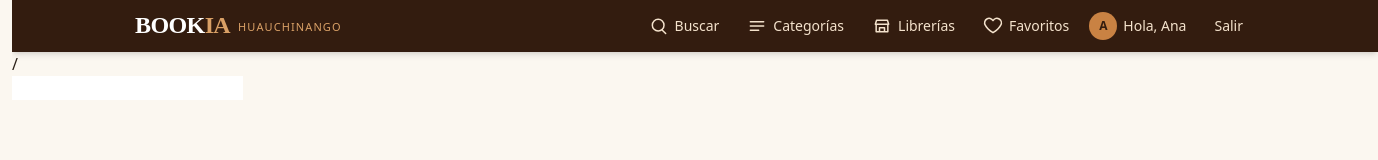
Test: Header account link › opens the profile page from the avatar of a signed-in reader
Click the link with aria-label "Mi perfil" at (1142, 26), box [1085,8,1198,44]
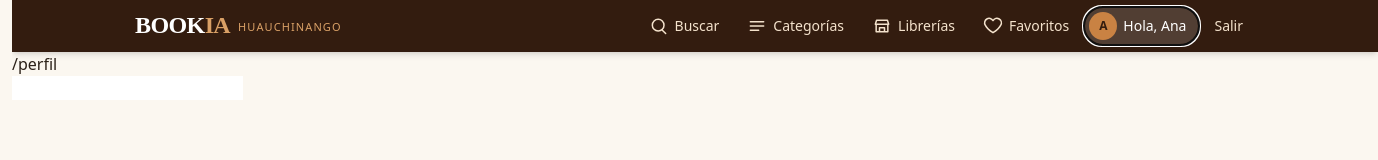
Now the text with test id "location" reads "/perfil", box [12,53,57,75]
